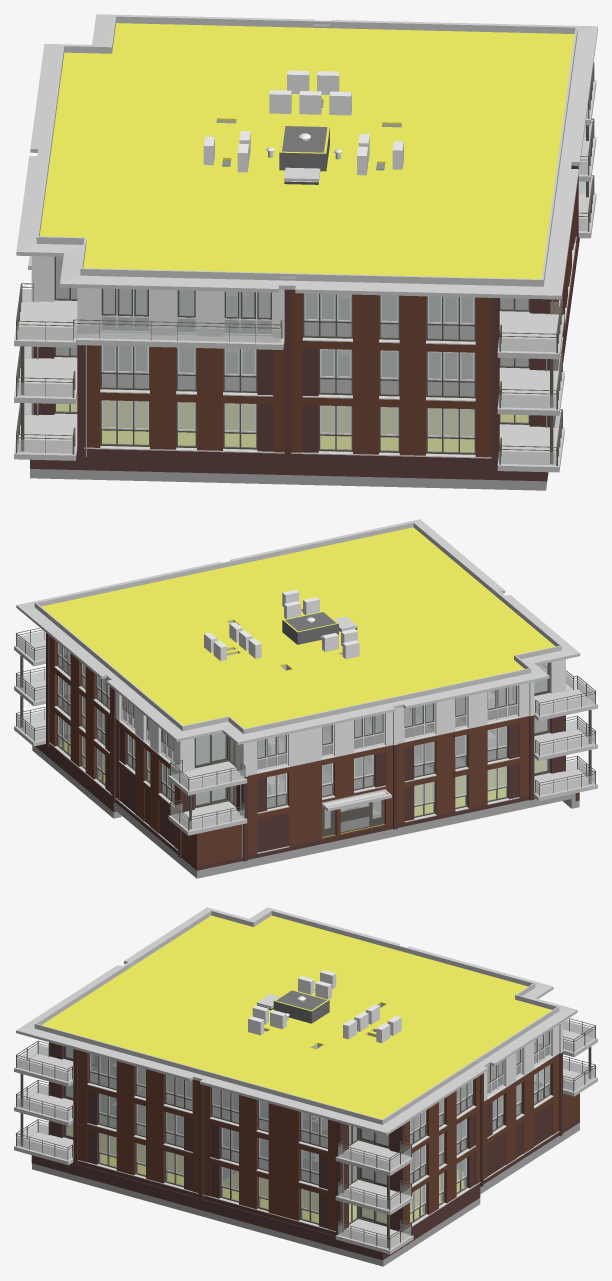
3 views of the same model, one above another, from view 1: azimuth 30°, elevation 25°; view 2: azimuth 150°, elevation 25°; view 3: azimuth 270°, elevation 25° (orthographic). The views are drawn at different scales.
Parts seen in each view (by area): view 1: Mesh 109643, Mesh 130136, Mesh 126215, Mesh 131143, Mesh 14563, Mesh 125701, Mesh 165824, Mesh 129137, Mesh 131855, Mesh 124489, Mesh 124779, Mesh 124308 (+48 smaller); view 2: Mesh 109643, Mesh 129137, Mesh 131855, Mesh 125512, Mesh 131143, Mesh 130136, Mesh 124932, Mesh 35719, Mesh 35780, Mesh 78335, Mesh 14563, Mesh 35841 (+41 smaller); view 3: Mesh 109643, Mesh 131143, Mesh 126254, Mesh 131855, Mesh 125665, Mesh 130136, Mesh 129137, Mesh 24827, Mesh 24766, Mesh 125094, Mesh 125453, Mesh 35902 (+40 smaller).
Boxes of the visible parts, <box> form: Mesh 109643: <box>39,23,574,279</box>; Mesh 130136: <box>60,268,561,299</box>; Mesh 126215: <box>32,454,545,481</box>; Mesh 131143: <box>541,26,597,298</box>; Mesh 14563: <box>14,300,284,349</box>; Mesh 125701: <box>30,469,546,490</box>; Mesh 165824: <box>16,283,282,342</box>; Mesh 129137: <box>16,44,64,251</box>; Mesh 131855: <box>97,14,596,33</box>; Mesh 124489: <box>304,296,528,338</box>; Mesh 124779: <box>56,261,271,333</box>; Mesh 124308: <box>320,407,528,452</box>; Mesh 109643: <box>41,527,555,728</box>; Mesh 129137: <box>237,668,549,744</box>; Mesh 131855: <box>16,602,182,741</box>; Mesh 125512: <box>193,794,571,878</box>; Mesh 131143: <box>17,519,419,607</box>; Mesh 130136: <box>413,519,579,653</box>; Mesh 124932: <box>124,715,382,769</box>; Mesh 35719: <box>168,761,247,795</box>; Mesh 35780: <box>168,801,247,835</box>; Mesh 78335: <box>196,824,241,866</box>; Mesh 14563: <box>534,669,597,720</box>; Mesh 35841: <box>534,728,597,760</box>; Mesh 109643: <box>42,915,551,1119</box>; Mesh 131143: <box>16,1023,386,1135</box>; Mesh 126254: <box>31,1155,383,1260</box>; Mesh 131855: <box>382,1006,577,1135</box>; Mesh 125665: <box>39,1165,375,1264</box>; Mesh 130136: <box>17,907,211,1030</box>; Mesh 129137: <box>268,907,552,987</box>; Mesh 24827: <box>335,1140,413,1175</box>; Mesh 24766: <box>335,1179,413,1214</box>; Mesh 125094: <box>222,1170,464,1222</box>; Mesh 125453: <box>14,1053,93,1086</box>; Mesh 35902: <box>14,1092,73,1125</box>.
Size of what is drawn, in the model's own units: 39.06 by 11.99 by 40.47.
